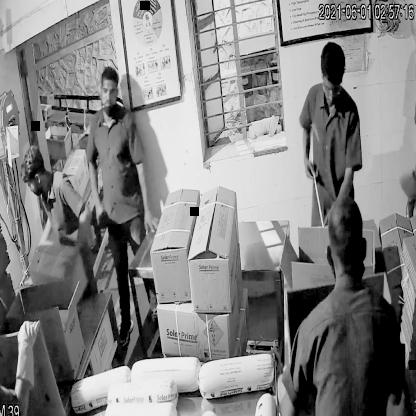no_goggles: (97, 81, 121, 103)
